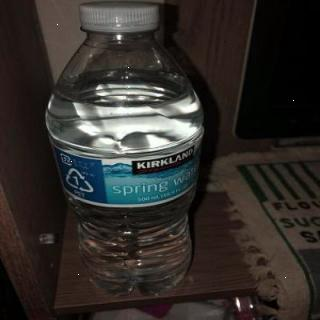Plastic-bottle: (43, 1, 215, 302)
